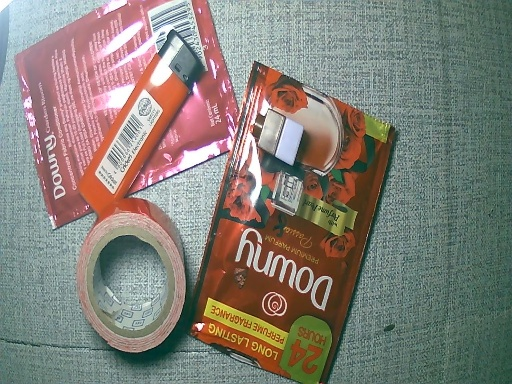plastic: (180, 61, 398, 384), (13, 1, 248, 232)
trash: (78, 31, 203, 215), (74, 201, 189, 358), (248, 105, 303, 176)
